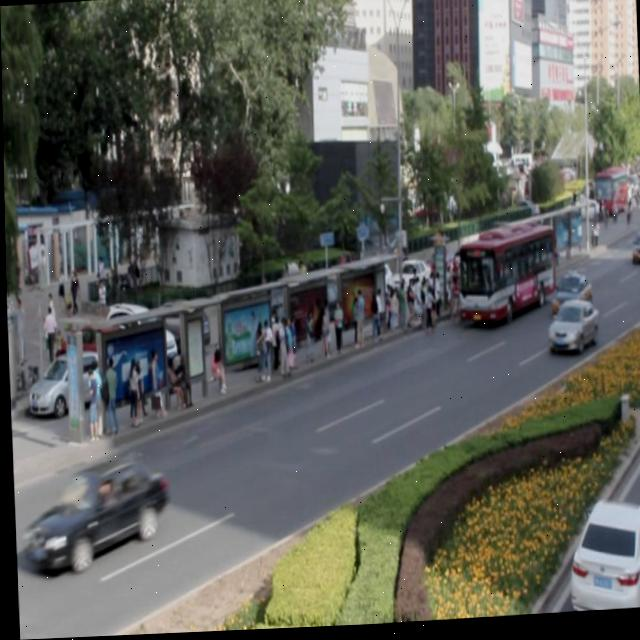car: (16, 457, 165, 571), (544, 303, 596, 359), (546, 275, 589, 322)
van: (453, 222, 555, 329)
